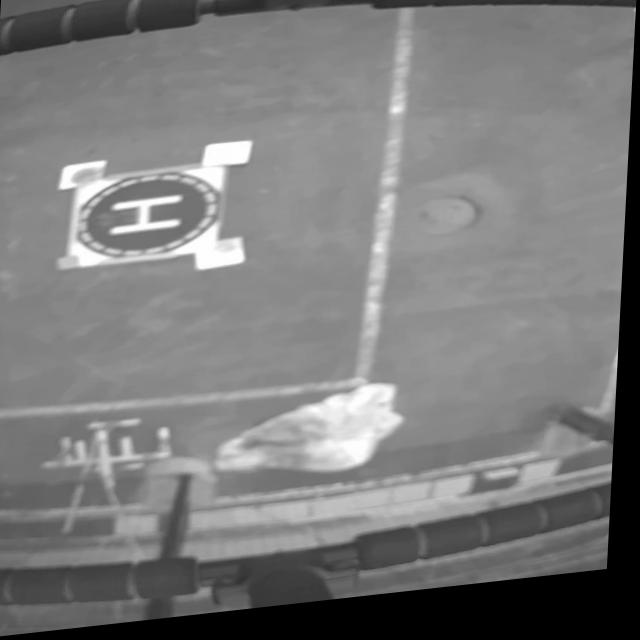Helipad: (111, 199, 186, 237)
